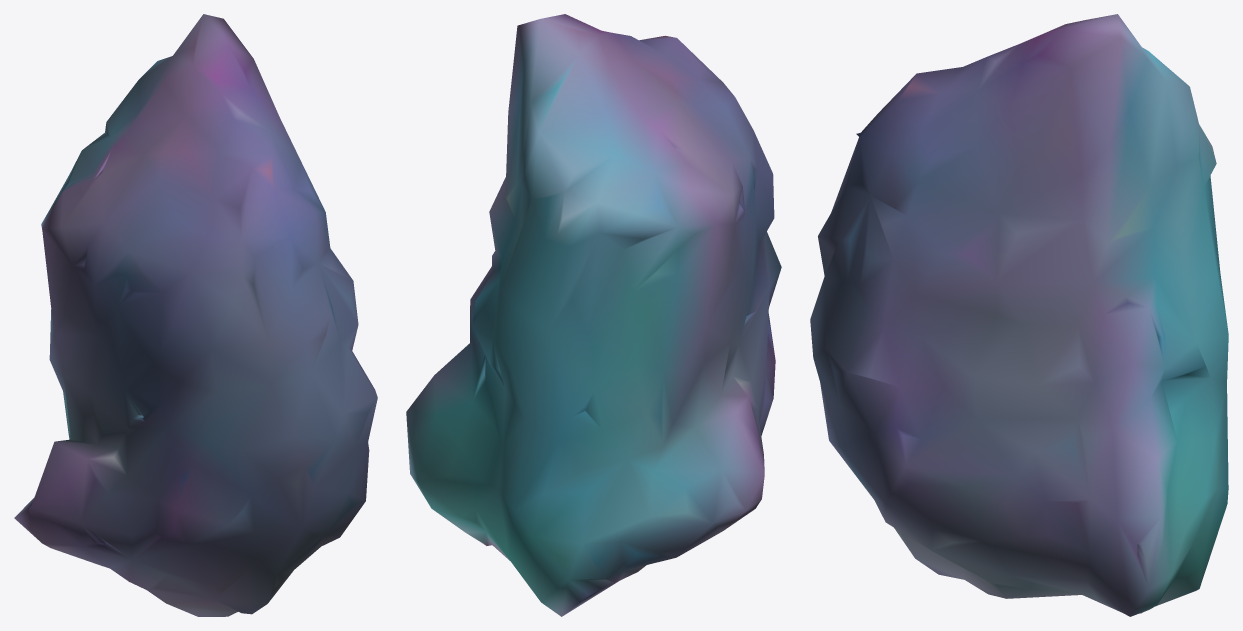
Rendered from fragmento_fa.glb.
The picture shows the model from 3 angles, left to right: view 1: azimuth 30°, elevation 25°; view 2: azimuth 150°, elevation 25°; view 3: azimuth 270°, elevation 25°; orthographic projection. The views are drawn at different scales.
Size of the model in its own units: 0.5874 by 0.9893 by 0.618.
